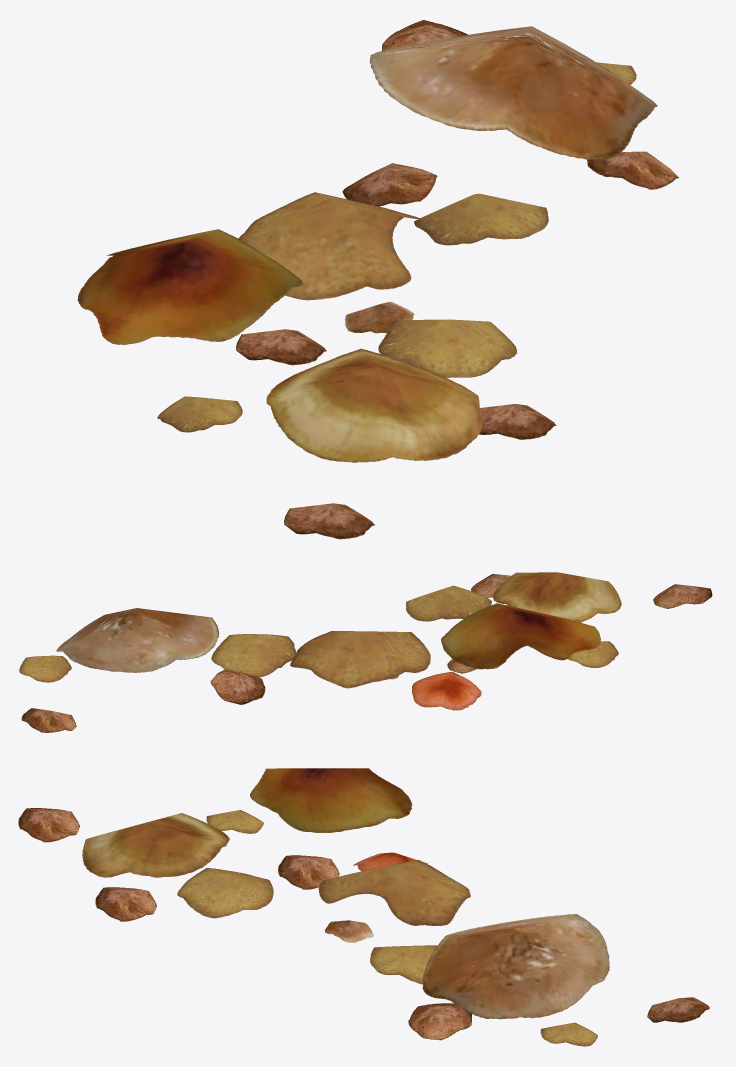
File: fngi_mushroom_clump_a2_l1.fbx
3 views of the same model, one above another, from view 1: azimuth 30°, elevation 25°; view 2: azimuth 150°, elevation 25°; view 3: azimuth 270°, elevation 25° (orthographic). The views are drawn at different scales.
Parts seen in each view (by area): view 1: mesh_node; view 2: mesh_node; view 3: mesh_node.
Part boxes in pixels (x1,y1,x2,y2): mesh_node: (77, 20, 678, 539); mesh_node: (19, 572, 712, 732); mesh_node: (18, 768, 709, 1046).
Size of the model in its own units: 1.39 by 0.258 by 1.67.
